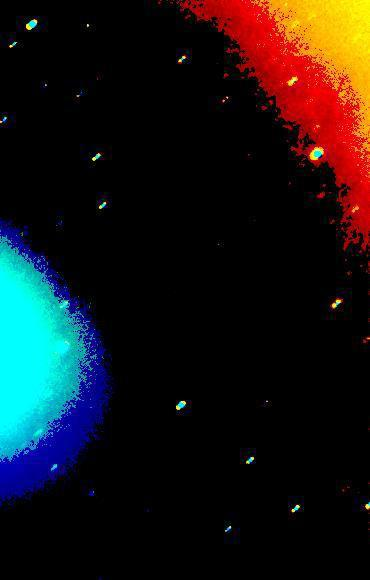star: (103, 15, 133, 45)
